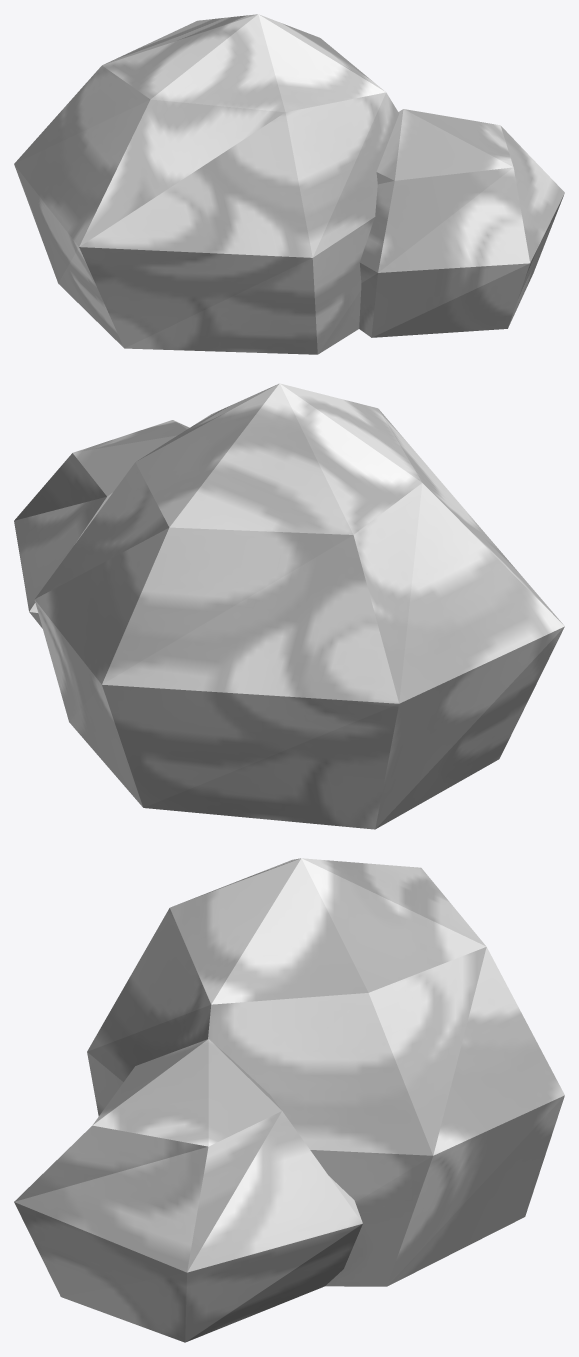
The model's file is bush_3.obj.
3 renders of one model, top to bottom at view 1: azimuth 30°, elevation 25°; view 2: azimuth 150°, elevation 25°; view 3: azimuth 270°, elevation 25°, orthographic. The views are drawn at different scales.
Visible parts, largest first — view 1: bush_3; view 2: bush_3; view 3: bush_3.
Part boxes in pixels (left/top/right/bottom): bush_3: left=14, top=14, right=564, bottom=354; bush_3: left=14, top=383, right=564, bottom=829; bush_3: left=14, top=858, right=564, bottom=1342.
Size of the model in its own units: 0.7282 by 0.42 by 0.6045.
